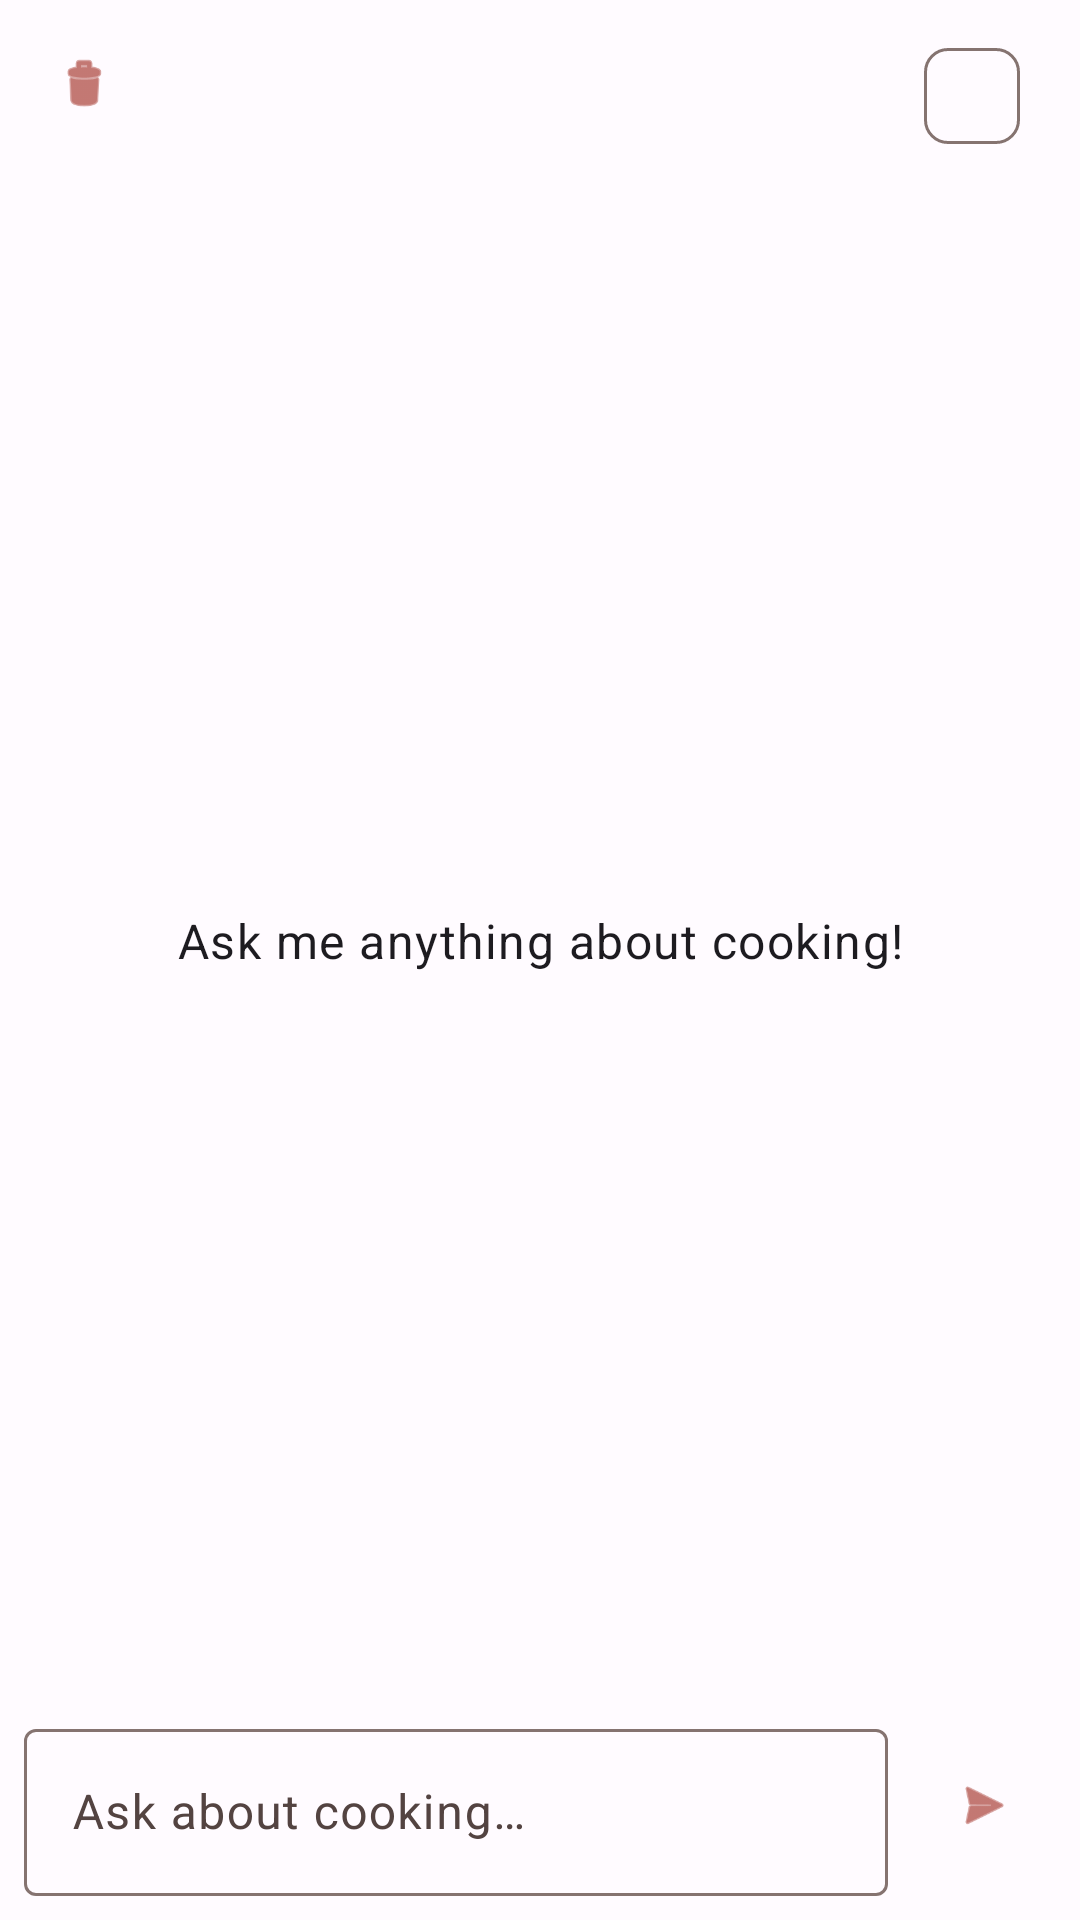

Icon click points for this 1080×1920 phone screenshot, format (x=x, y=y):
Clear chat history: (x=84, y=83)
Send message: (x=984, y=1805)
